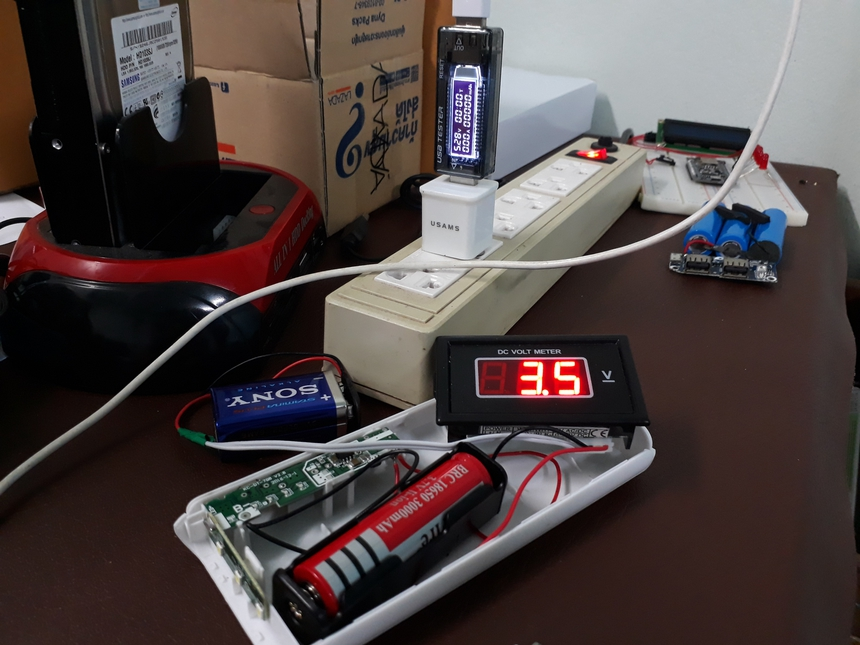Battery: (290, 449, 493, 618), (204, 363, 353, 450), (747, 206, 789, 268)
